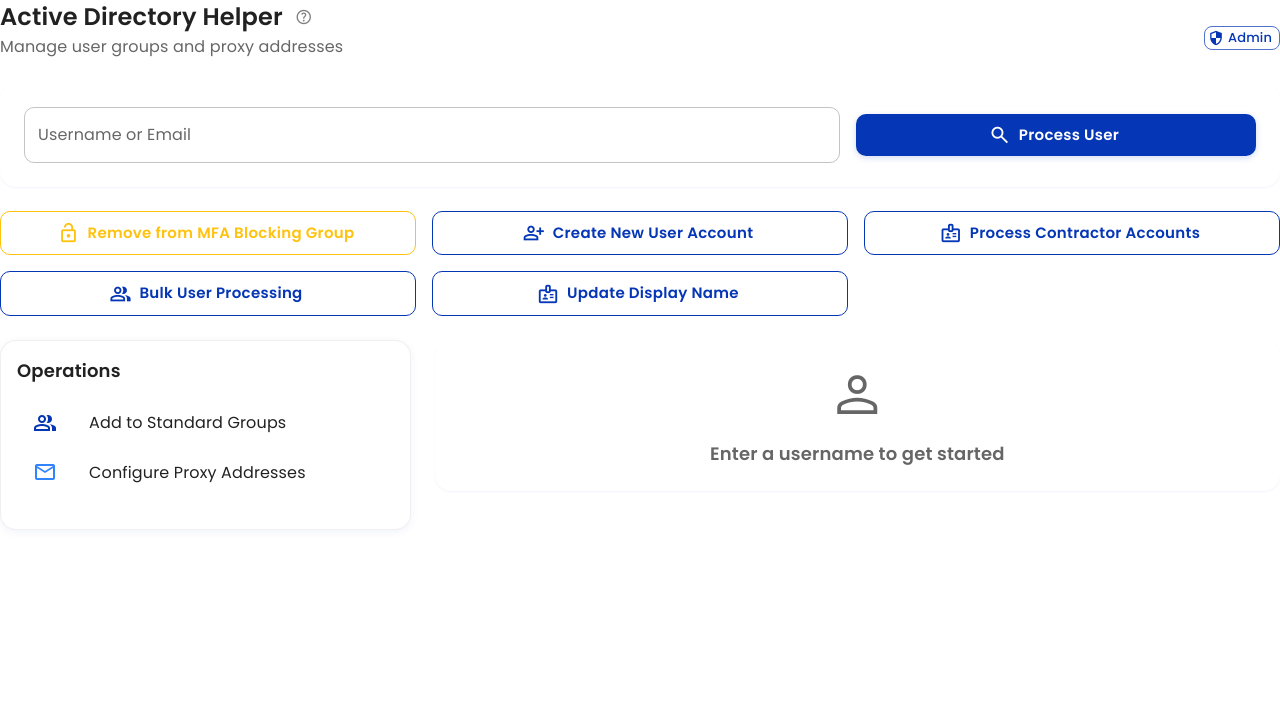
Test: ADHelper Page › MFA Removal Dialog › opens MFA dialog when button is clicked
Expected: the heading "Active Directory Helper" is shown, [0, 0, 283, 34]
Click the button "Remove from MFA Blocking Group": click(208, 233) [0, 211, 416, 256]
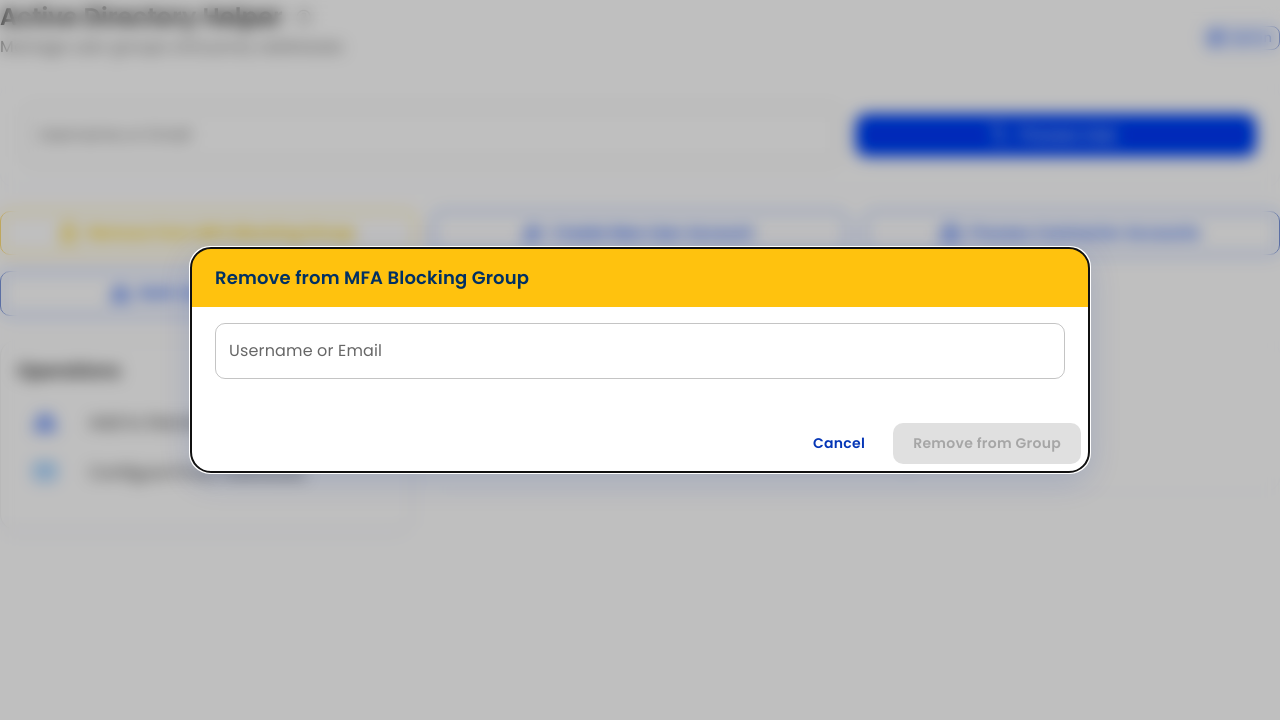
Expected: the dialog is shown, [190, 247, 1090, 473]
